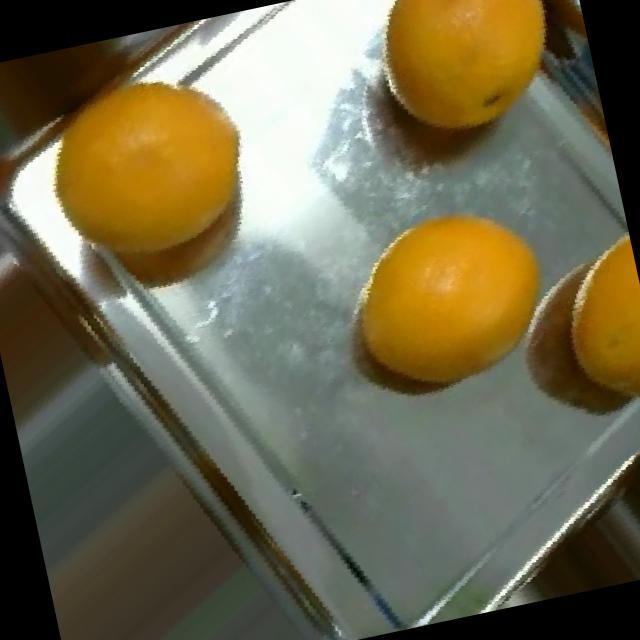Fruit: (469, 238, 640, 454)
